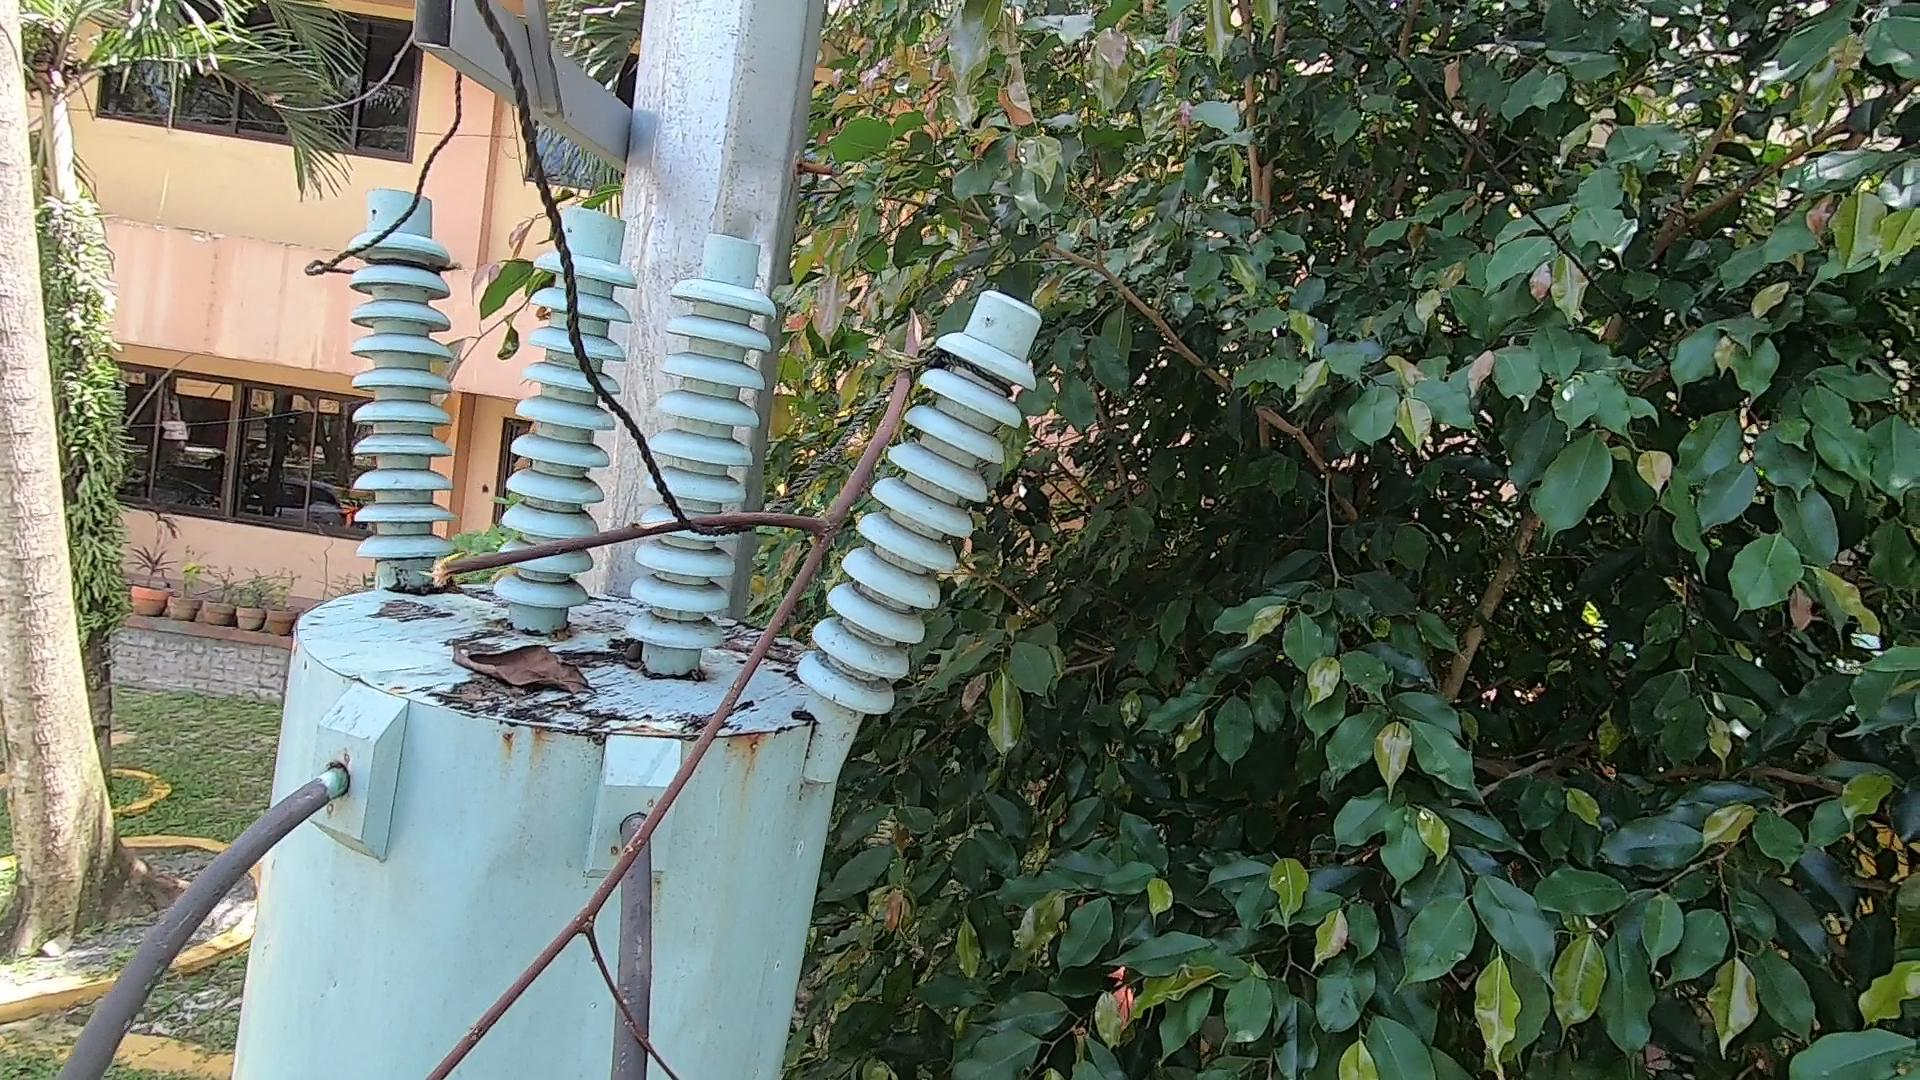leaf: (460, 615, 608, 717)
tree branch: (378, 307, 930, 1080)
